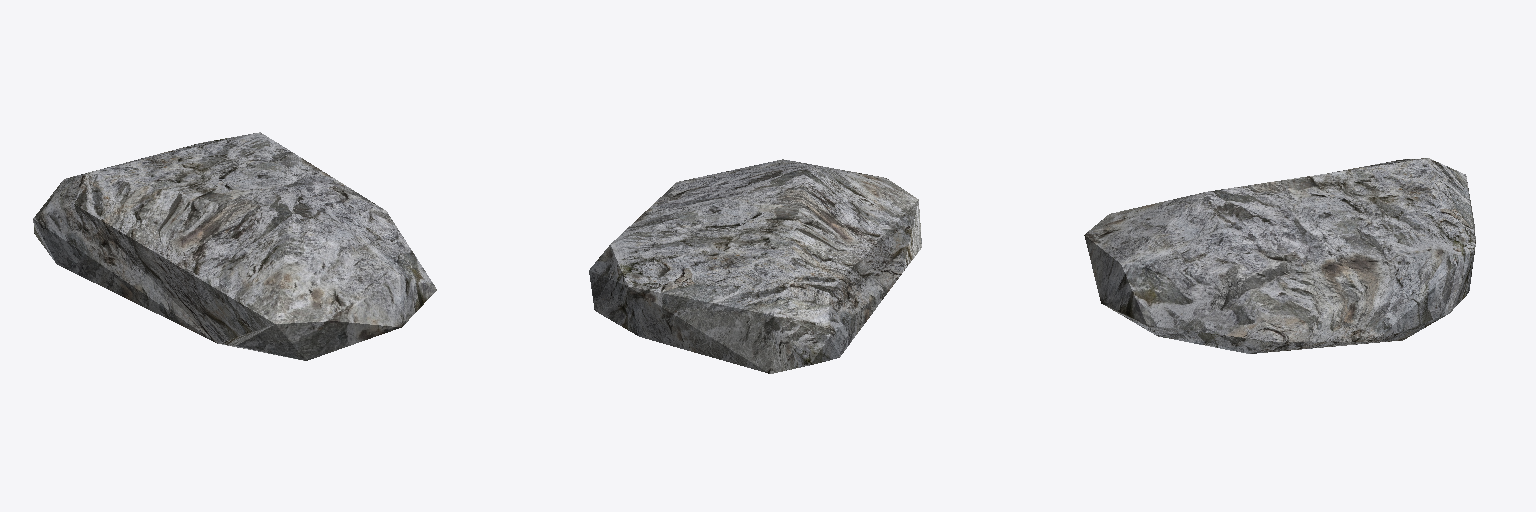
3 renders of one model, left to right at view 1: azimuth 30°, elevation 25°; view 2: azimuth 150°, elevation 25°; view 3: azimuth 270°, elevation 25°, orthographic.
Parts seen in each view (by area): view 1: rocksquare8; view 2: rocksquare8; view 3: rocksquare8.
Boxes of the visible parts, box(x1,y1,x2,y2) form: rocksquare8: box(33, 132, 436, 360); rocksquare8: box(589, 159, 921, 373); rocksquare8: box(1084, 158, 1475, 353).
Size of the model in its own units: 2.94 by 1.24 by 3.5.
Materials: 1 (1 with a texture image).